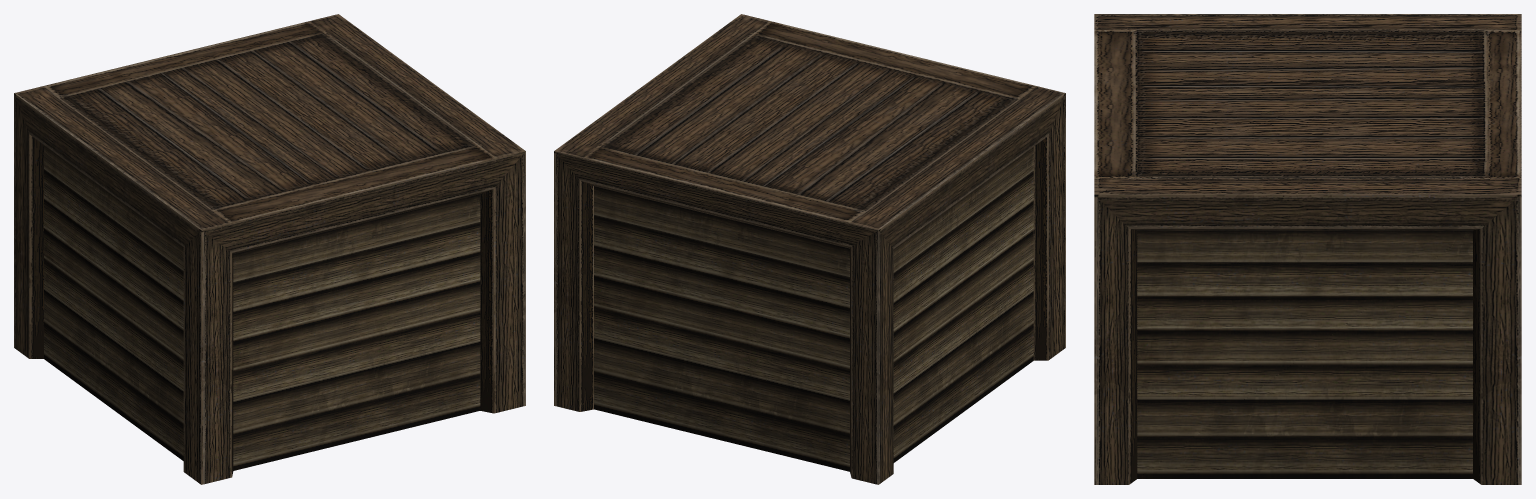
File: House_4X4_03c.fbx
The picture shows the model from 3 angles, left to right: view 1: azimuth 30°, elevation 25°; view 2: azimuth 150°, elevation 25°; view 3: azimuth 270°, elevation 25°; orthographic projection. The views are drawn at different scales.
Parts seen in each view (by area): view 1: House_4X4_03c; view 2: House_4X4_03c; view 3: House_4X4_03c.
Part boxes in pixels (bbox=[...]): House_4X4_03c: bbox=[14, 14, 525, 484]; House_4X4_03c: bbox=[554, 14, 1065, 484]; House_4X4_03c: bbox=[1094, 14, 1521, 484].
Bounding box in the file's own units: 4 × 3 × 4.
